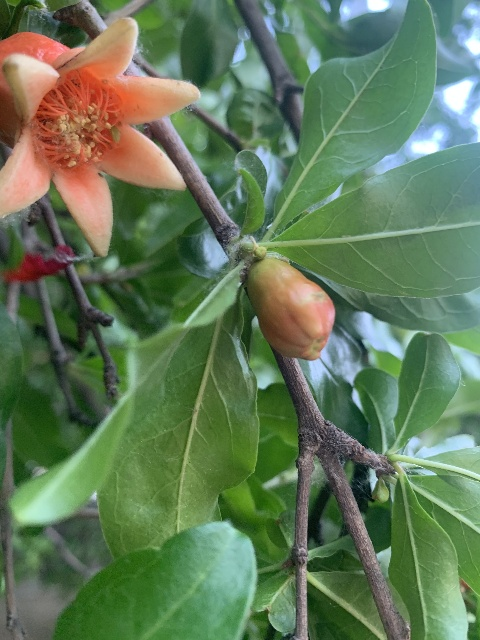bud: (247, 256, 335, 360)
flower: (0, 19, 196, 260)
